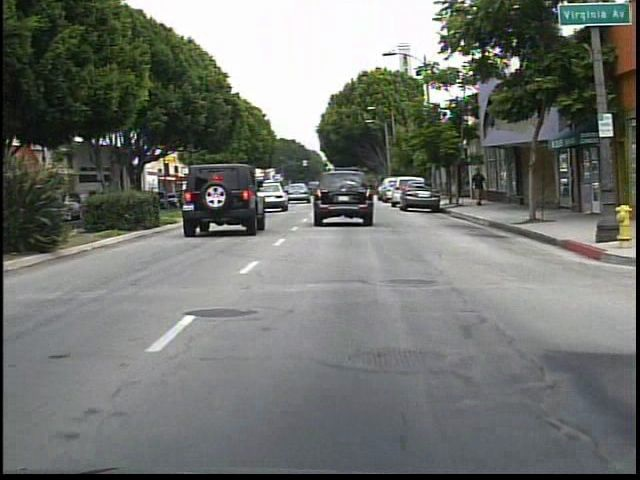person: (468, 166, 489, 210)
